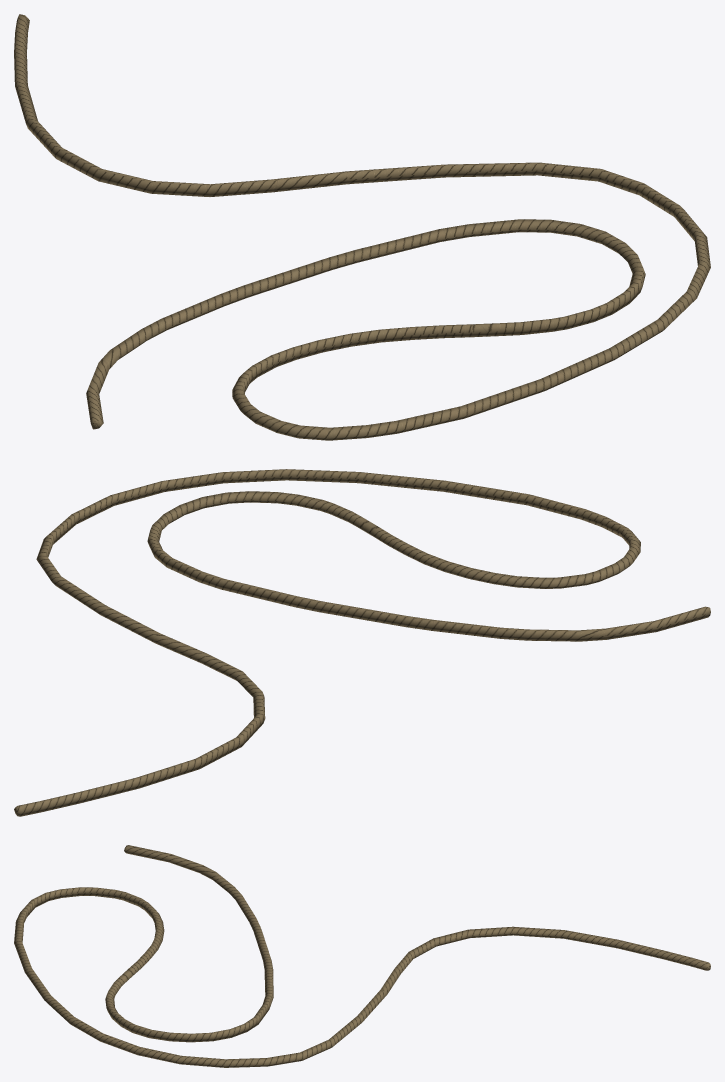
File: SM_rope_ground_01.fbx
The picture shows the model from 3 angles, top to bottom: view 1: azimuth 30°, elevation 25°; view 2: azimuth 150°, elevation 25°; view 3: azimuth 270°, elevation 25°; orthographic projection. The views are drawn at different scales.
Parts seen in each view (by area): view 1: Object32614; view 2: Object32614; view 3: Object32614.
Boxes of the visible parts, <box> form: Object32614: <box>14,14,710,440</box>; Object32614: <box>14,469,710,816</box>; Object32614: <box>14,845,710,1067</box>.
Bounding box in the file's own units: 79.45 × 1.29 × 107.
